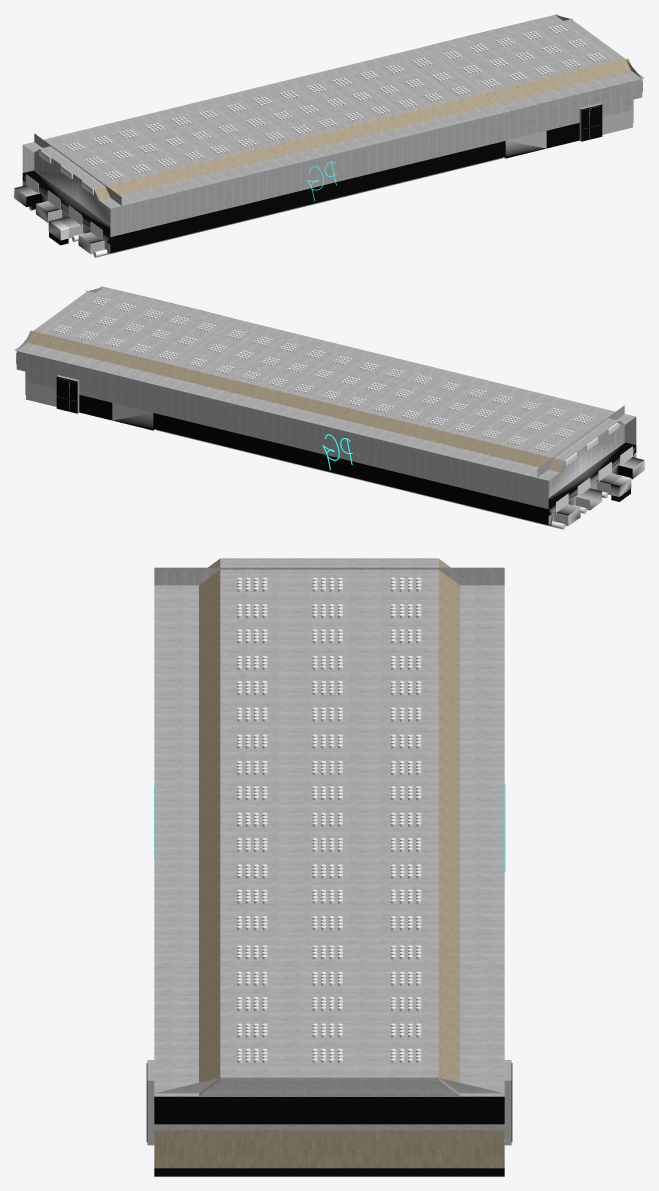
Rendered from bowling club.fbx.
The picture shows the model from 3 angles, top to bottom: view 1: azimuth 30°, elevation 25°; view 2: azimuth 150°, elevation 25°; view 3: azimuth 270°, elevation 25°; orthographic projection. The views are drawn at different scales.
Visible parts, largest first — view 1: Plane001, Cylinder003; view 2: Plane001, Cylinder003; view 3: Plane001, Cylinder003.
Part boxes in pixels (x1,y1,x2,y2): Plane001: (14, 14, 644, 257); Cylinder003: (66, 25, 605, 179); Plane001: (14, 286, 644, 529); Cylinder003: (53, 297, 592, 451); Plane001: (146, 558, 512, 1176); Cylinder003: (237, 577, 421, 1062).
Bounding box in the file's own units: 26.77 × 2.77 × 7.61.
